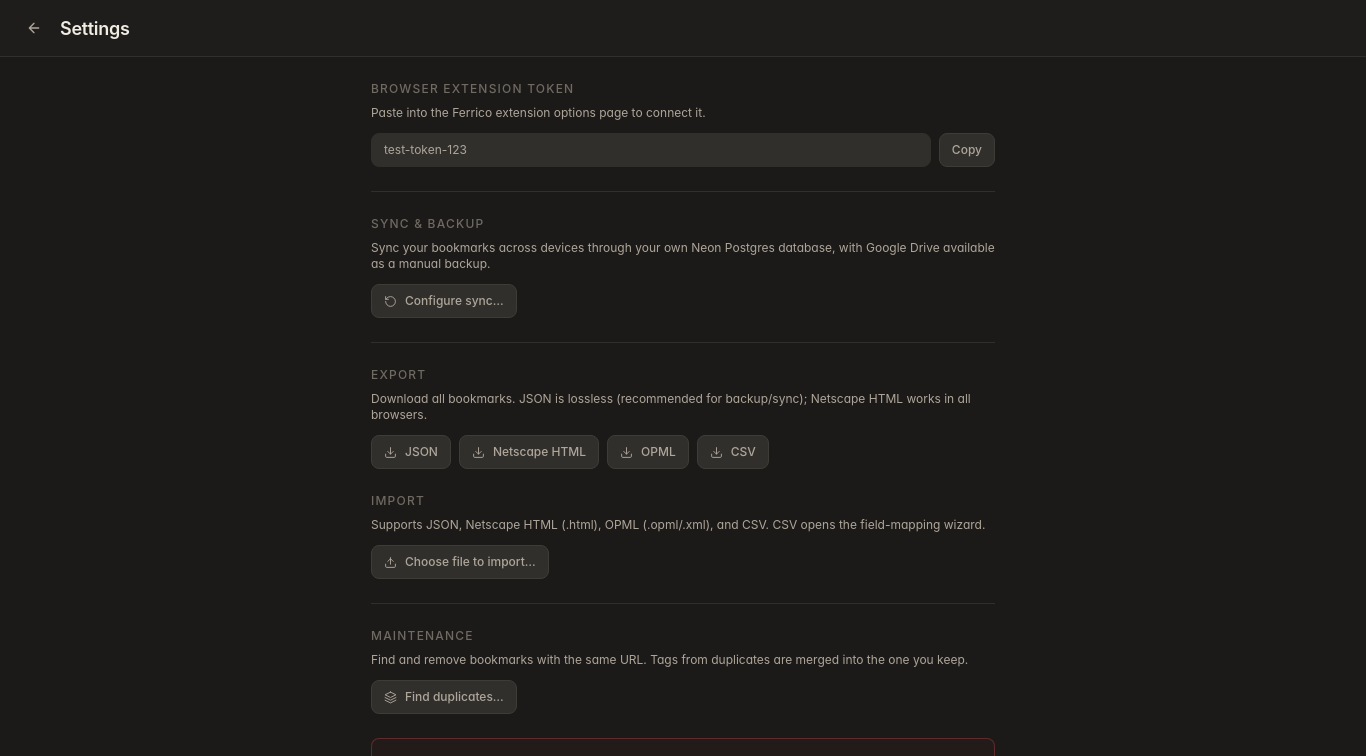
Test: SettingsPage › shows "Copied!" feedback immediately after copying
The width and height of the screenshot is (1366, 756).
Expected: the text "test-token-123" is shown, [371, 133, 931, 167]
Click the button "Copy". click: coordinates (967, 150)
box: [939, 133, 995, 167]
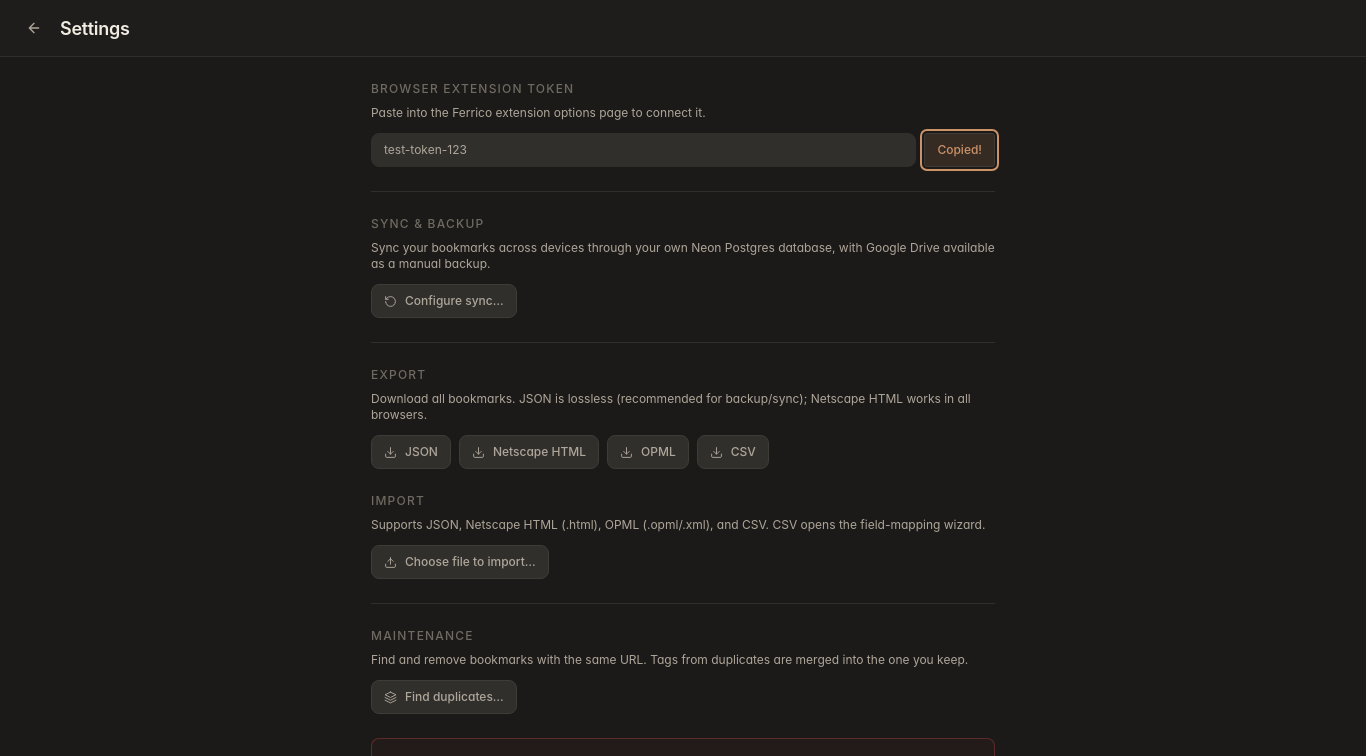
Expected: the button "Copied!" is shown, [924, 133, 995, 167]
